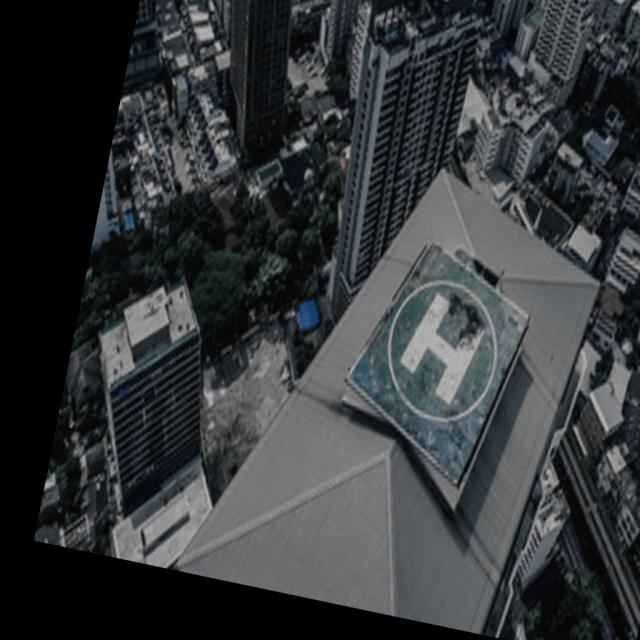helipad: (378, 275, 502, 425)
